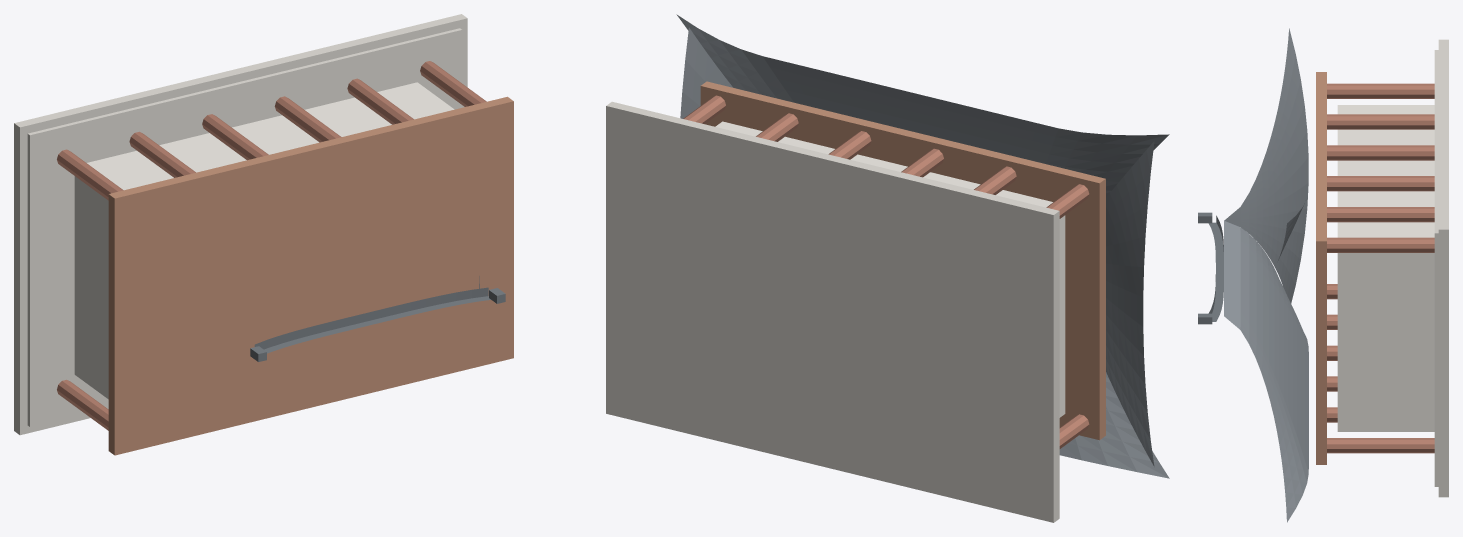
File: heritage_hall_xieshan.glb
3 renders of one model, left to right at view 1: azimuth 30°, elevation 25°; view 2: azimuth 150°, elevation 25°; view 3: azimuth 270°, elevation 25°, orthographic. The views are drawn at different scales.
Visible parts, largest first — view 1: part_015, part_001, part_002, part_000, part_021, part_004, part_006, part_008, part_010, part_012, part_014, part_003; view 2: part_000, part_020, part_015, part_002, part_004, part_008, part_006, part_014, part_010, part_012; view 3: part_002, part_020, part_000, part_015, part_001, part_004, part_006, part_008, part_010, part_012, part_013, part_014 (+1 smaller).
Part boxes in pixels (bbox=[...]): part_015: bbox=[108, 96, 513, 455]; part_001: bbox=[27, 28, 462, 426]; part_002: bbox=[74, 82, 454, 399]; part_000: bbox=[14, 14, 467, 435]; part_021: bbox=[254, 287, 490, 353]; part_004: bbox=[57, 149, 123, 200]; part_006: bbox=[129, 131, 195, 177]; part_008: bbox=[202, 114, 268, 160]; part_010: bbox=[274, 96, 341, 142]; part_012: bbox=[347, 78, 413, 124]; part_014: bbox=[420, 61, 486, 106]; part_003: bbox=[57, 379, 108, 430]; part_000: bbox=[606, 101, 1059, 522]; part_020: bbox=[676, 14, 1169, 478]; part_015: bbox=[700, 81, 1105, 440]; part_002: bbox=[715, 121, 1065, 417]; part_004: bbox=[1046, 184, 1089, 218]; part_008: bbox=[901, 148, 943, 177]; part_006: bbox=[974, 166, 1016, 194]; part_014: bbox=[683, 95, 725, 124]; part_010: bbox=[828, 131, 871, 159]; part_012: bbox=[756, 113, 798, 141]; part_002: bbox=[1337, 105, 1434, 431]; part_020: bbox=[1224, 28, 1308, 522]; part_000: bbox=[1438, 39, 1448, 497]; part_015: bbox=[1316, 72, 1326, 464]; part_001: bbox=[1434, 50, 1438, 486]; part_004: bbox=[1327, 83, 1434, 98]; part_006: bbox=[1327, 114, 1434, 129]; part_008: bbox=[1327, 145, 1434, 160]; part_010: bbox=[1327, 176, 1434, 191]; part_012: bbox=[1327, 207, 1434, 222]; part_013: bbox=[1327, 438, 1434, 453]; part_014: bbox=[1327, 237, 1434, 252].
Size of the model in its own units: 19.3 by 12.86 by 9.76.
